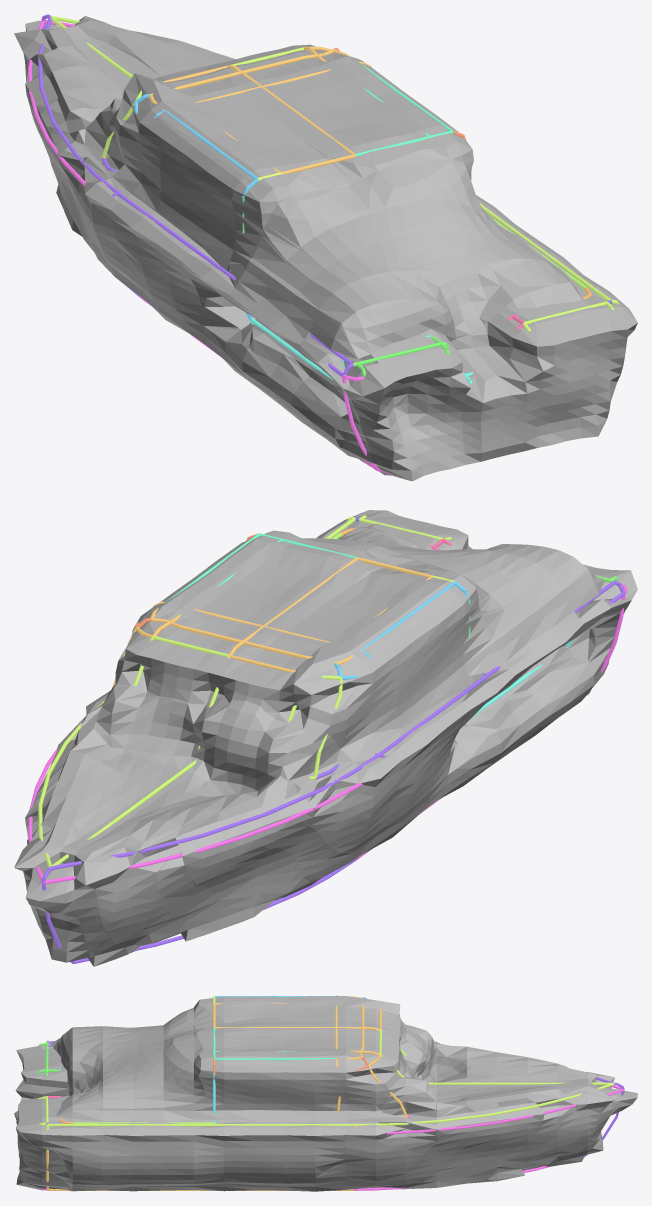
The model's file is flowrep_boat.gltf.
The picture shows the model from 3 angles, top to bottom: view 1: azimuth 30°, elevation 25°; view 2: azimuth 150°, elevation 25°; view 3: azimuth 270°, elevation 25°; orthographic projection. The views are drawn at different scales.
Bounding box in the file's own units: 0.352 × 0.2686 × 0.9776.
